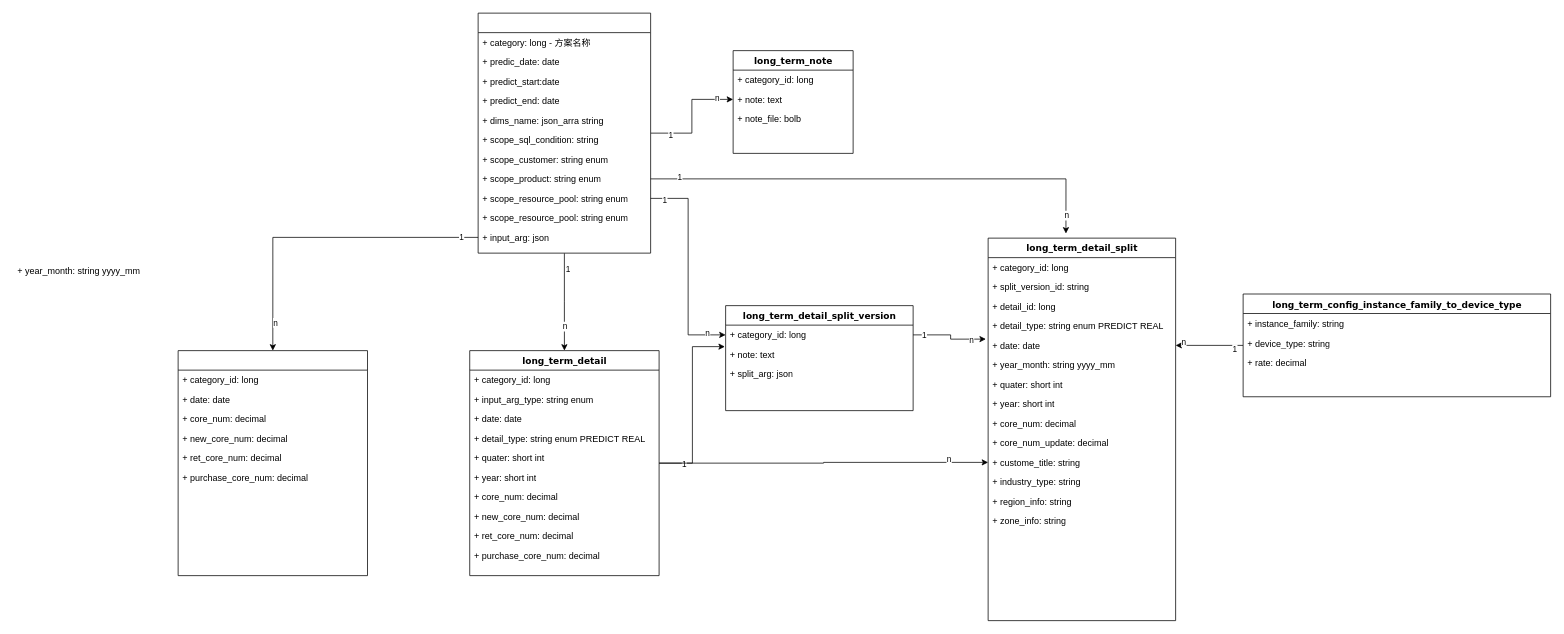
Some shapes in this 1564 by 634 pixel diagram are drawn without their labels. The box of each missing label's shape, as (x1, y1, x2, y2) in pixels:
long_term_arg_trade: (177, 350, 368, 576)
long_term_category: (477, 12, 651, 253)
